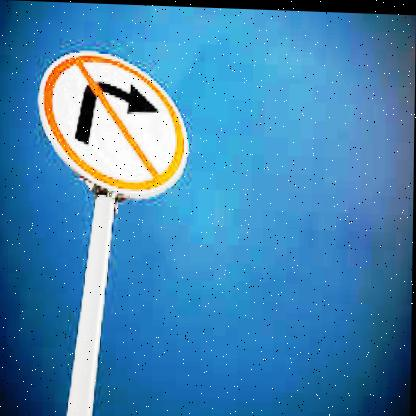No right turn: (33, 44, 200, 214)
